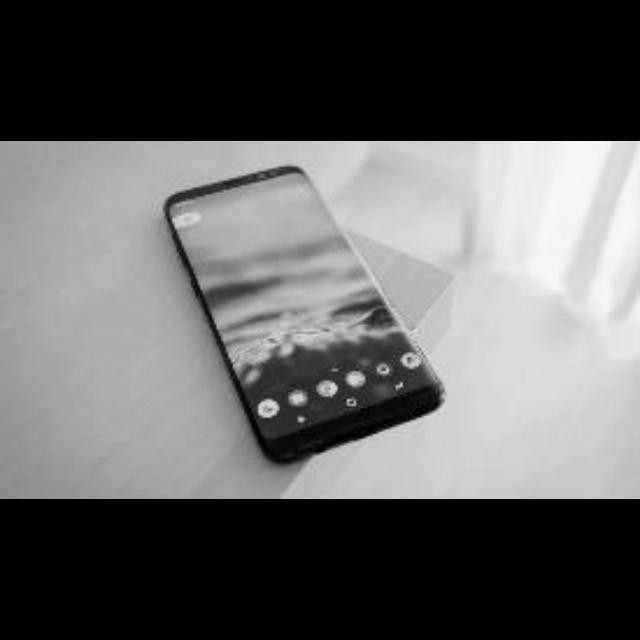fake: (143, 154, 470, 482)
